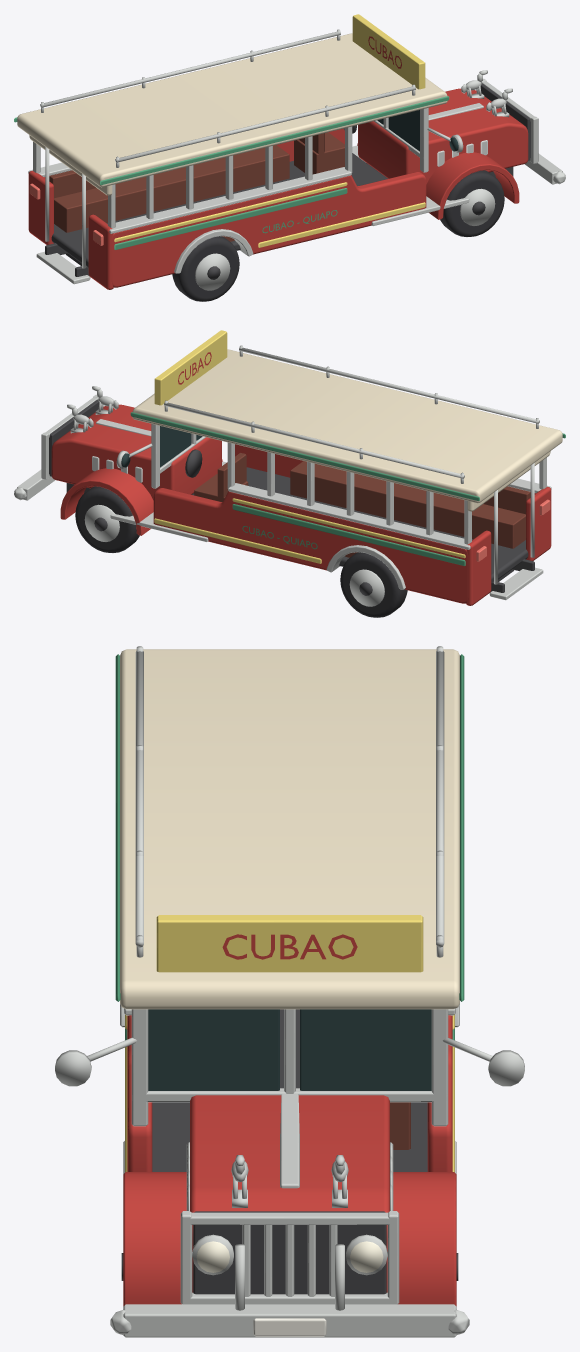
File: jeepney.glb
The picture shows the model from 3 angles, top to bottom: view 1: azimuth 30°, elevation 25°; view 2: azimuth 150°, elevation 25°; view 3: azimuth 270°, elevation 25°; orthographic projection. The views are drawn at different scales.
Parts seen in each view (by area): view 1: jeepney_body, jeepney_trim, jeepney_round, jeepney_wheels, jeepney_glass, jeepney_letters; view 2: jeepney_body, jeepney_trim, jeepney_round, jeepney_wheels, jeepney_glass, jeepney_letters; view 3: jeepney_body, jeepney_trim, jeepney_glass, jeepney_round, jeepney_letters.
Boxes of the visible parts, box(x1,y1,x2,y2) form: jeepney_body: box(17, 33, 528, 289); jeepney_trim: box(14, 14, 565, 284); jeepney_round: box(40, 29, 512, 290); jeepney_wheels: box(172, 170, 504, 301); jeepney_glass: box(377, 110, 419, 151); jeepney_letters: box(262, 36, 401, 233); jeepney_body: box(51, 349, 562, 605); jeepney_trim: box(14, 330, 565, 600); jeepney_round: box(67, 345, 539, 606); jeepney_wheels: box(75, 486, 407, 617); jeepney_glass: box(160, 426, 202, 467); jeepney_letters: box(178, 352, 317, 549); jeepney_body: box(120, 649, 459, 1292); jeepney_trim: box(110, 654, 469, 1337); jeepney_glass: box(148, 1009, 431, 1090); jeepney_round: box(55, 646, 524, 1310); jeepney_letters: box(222, 934, 357, 959).
Size of the model in its own units: 6.5 by 2.42 by 2.82.
